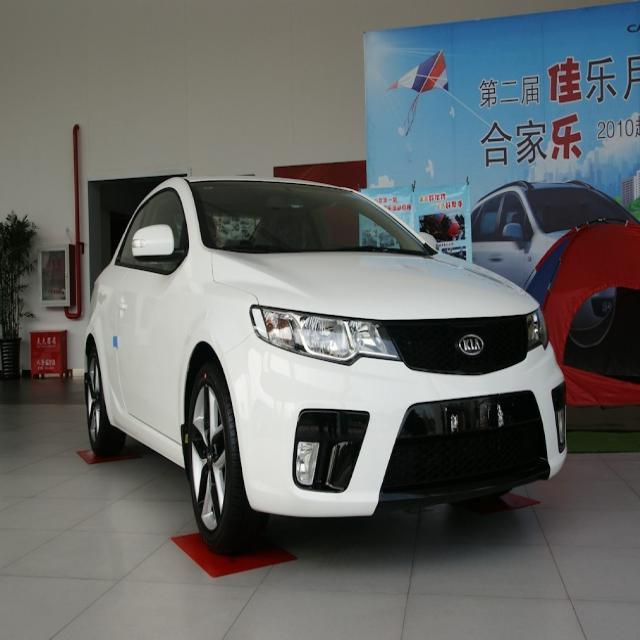front_bumper: (216, 325, 571, 519)
front_glass: (185, 177, 435, 260)
front_left_side_light: (522, 304, 549, 352)
front_right_side_door: (111, 177, 203, 450)
front_right_side_light: (249, 301, 401, 368)
front_right_side_mirror: (131, 219, 181, 266)
wheel: (186, 363, 271, 556), (86, 350, 121, 461)
